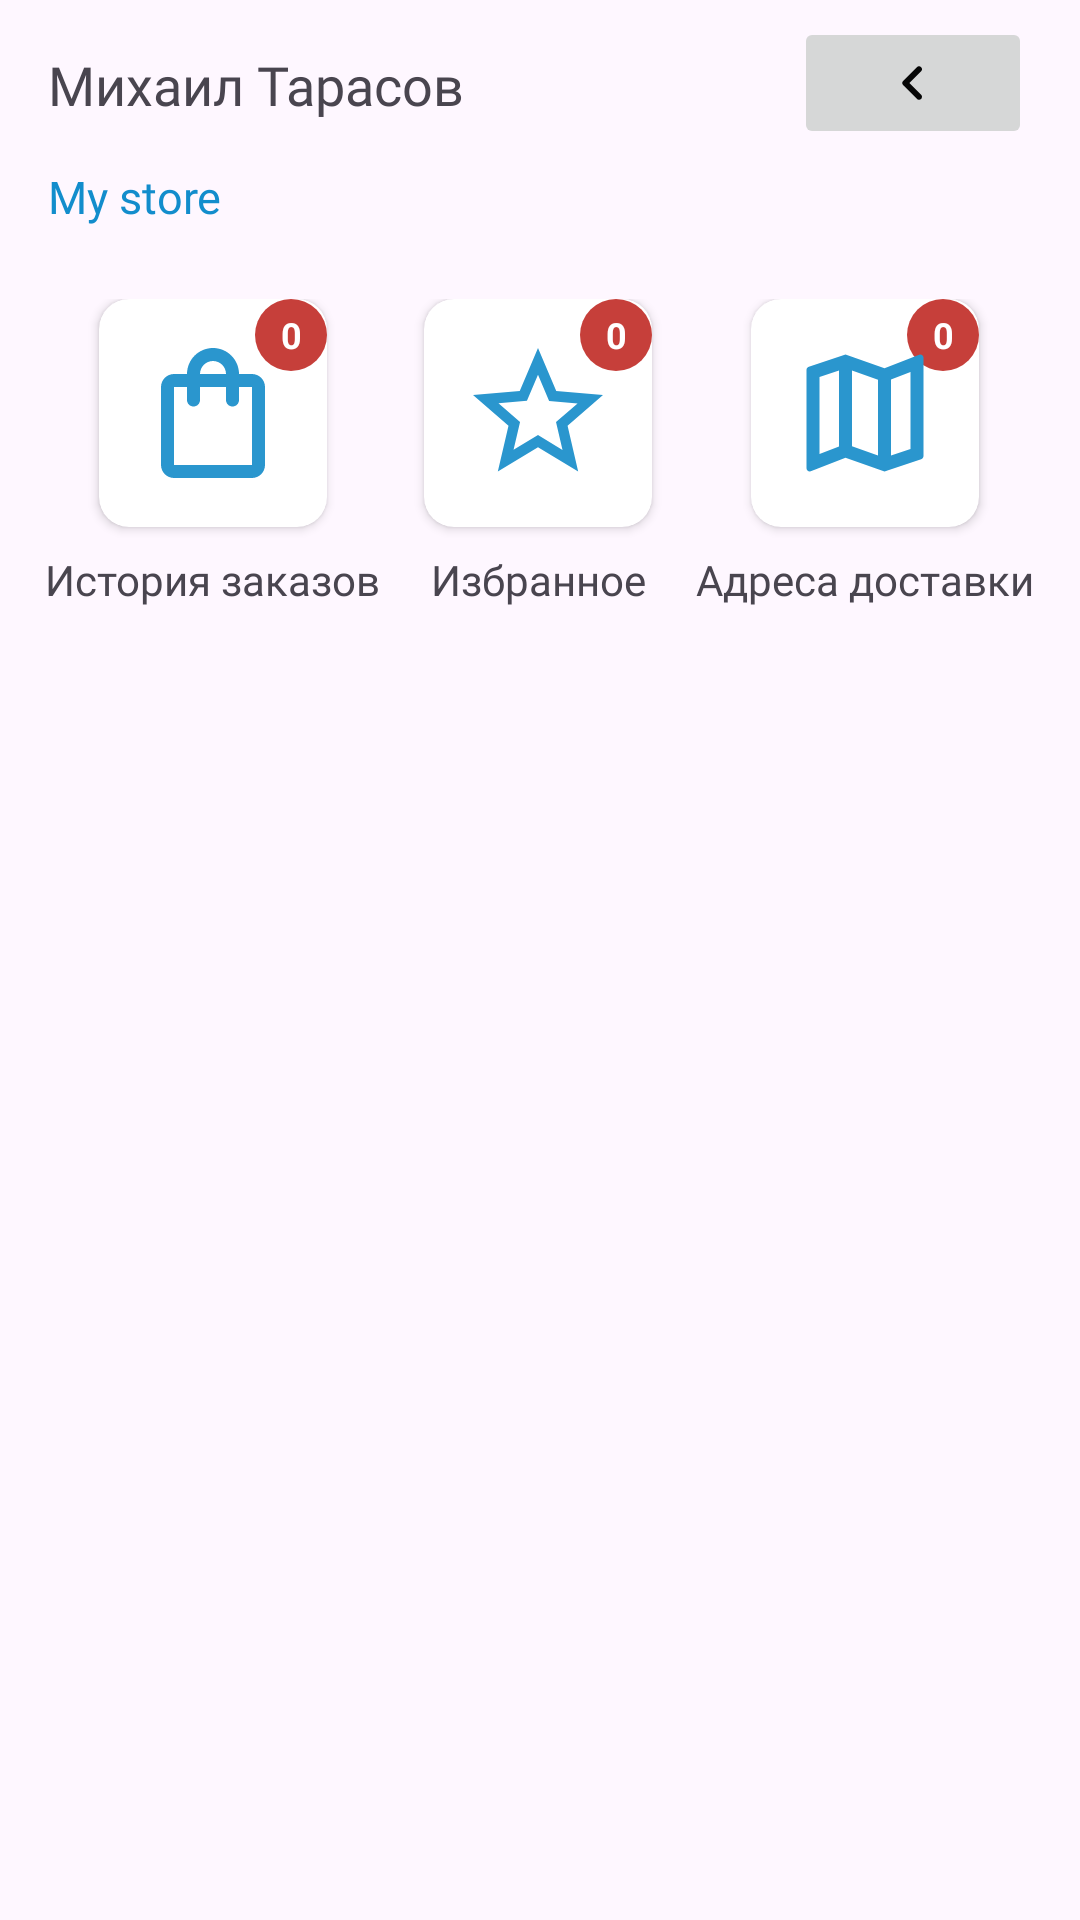

Icon bounding boxes for this 1080px x 1920px phone screenshot, format (x1, y1, x2, y2):
map: (806, 335, 943, 472)
shop: (161, 348, 265, 478)
star: (473, 348, 603, 472)
